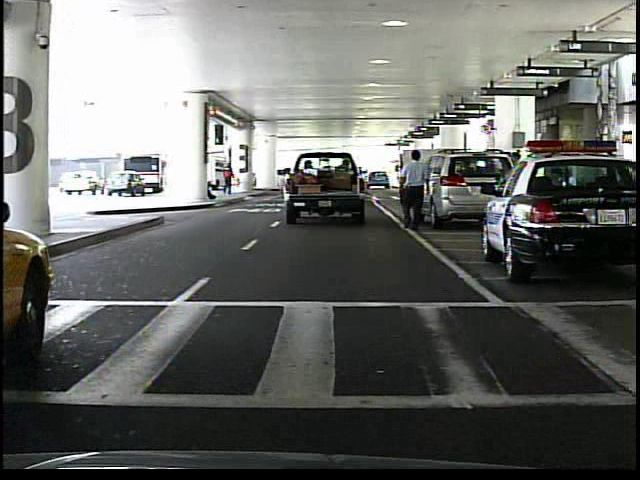person: (396, 148, 436, 231), (221, 160, 237, 197)
